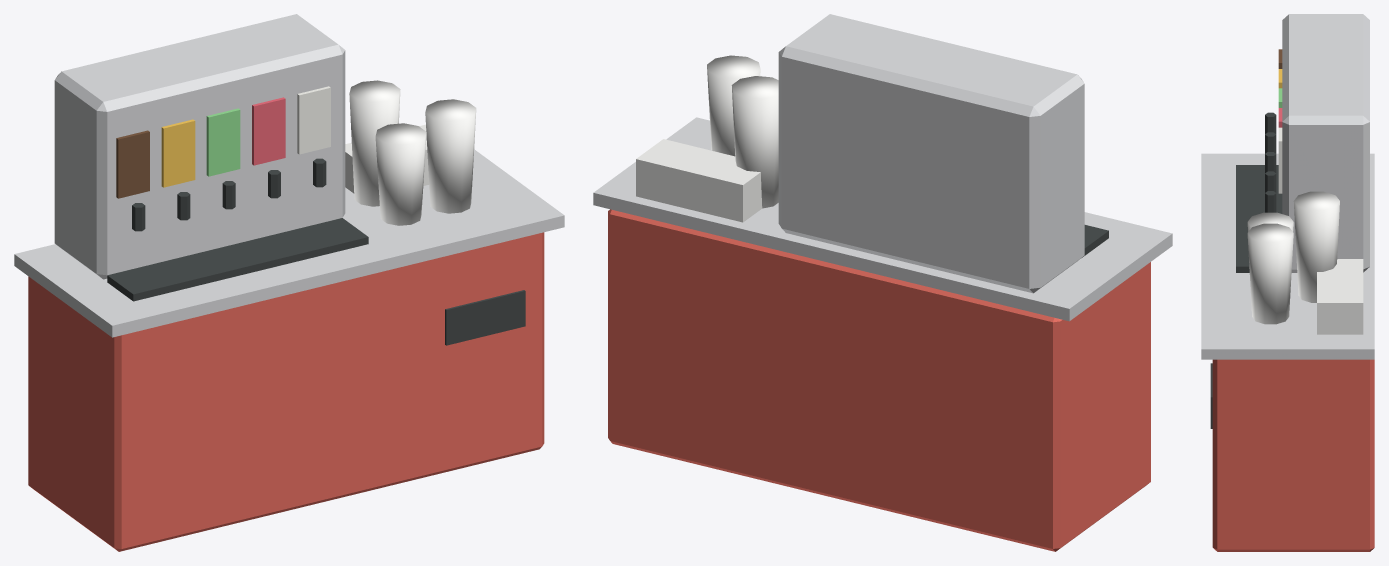
The model's file is drinks-burger.glb.
The picture shows the model from 3 angles, left to right: view 1: azimuth 30°, elevation 25°; view 2: azimuth 150°, elevation 25°; view 3: azimuth 270°, elevation 25°; orthographic projection. The views are drawn at different scales.
Visible parts, largest first — view 1: drinks-burger; view 2: drinks-burger; view 3: drinks-burger.
Boxes of the visible parts, box(x1,y1,x2,y2) form: drinks-burger: box(14, 14, 564, 551); drinks-burger: box(593, 14, 1172, 551); drinks-burger: box(1201, 14, 1374, 551).
Bounding box in the file's own units: 2 × 1.75 × 0.75.
